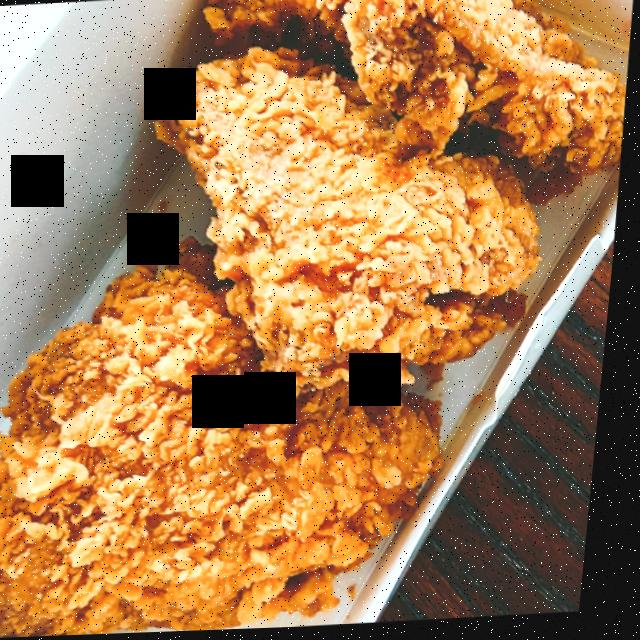Frango: (0, 243, 470, 637), (133, 33, 567, 408)
